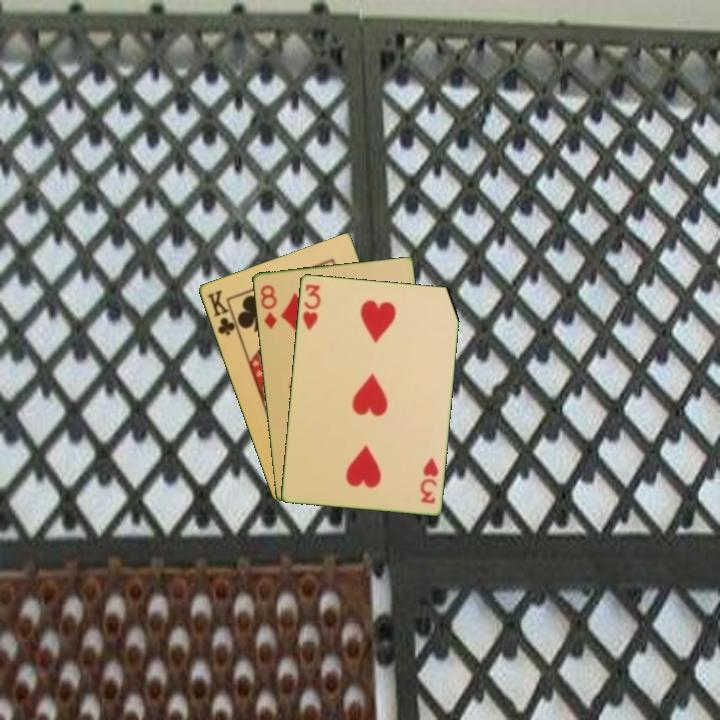3h: (299, 280, 323, 333), (417, 453, 441, 506)
8d: (257, 281, 280, 332)
Kc: (203, 286, 241, 338)
